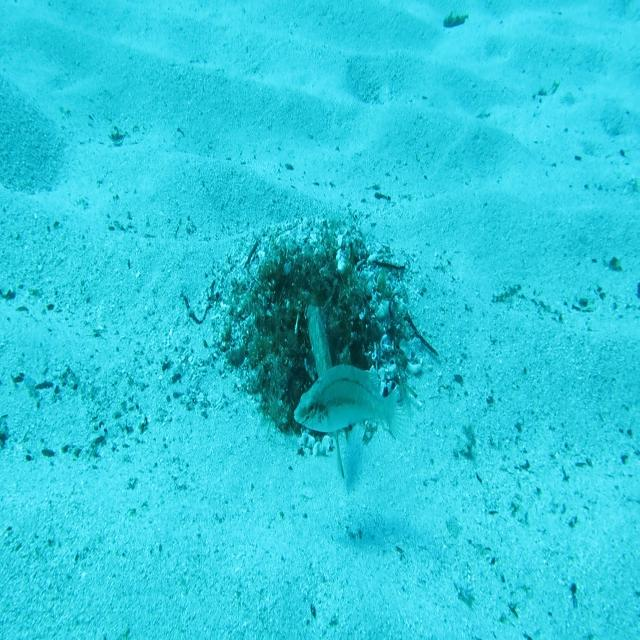FAN: (304, 303, 349, 485)
core_nest: (287, 268, 331, 302)
female: (293, 363, 412, 451)
nest: (212, 212, 434, 464)
vegetation: (442, 10, 469, 30)
